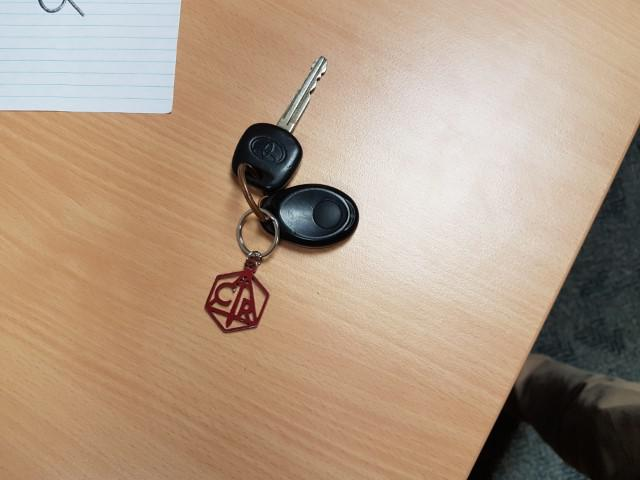key: (232, 56, 329, 190)
